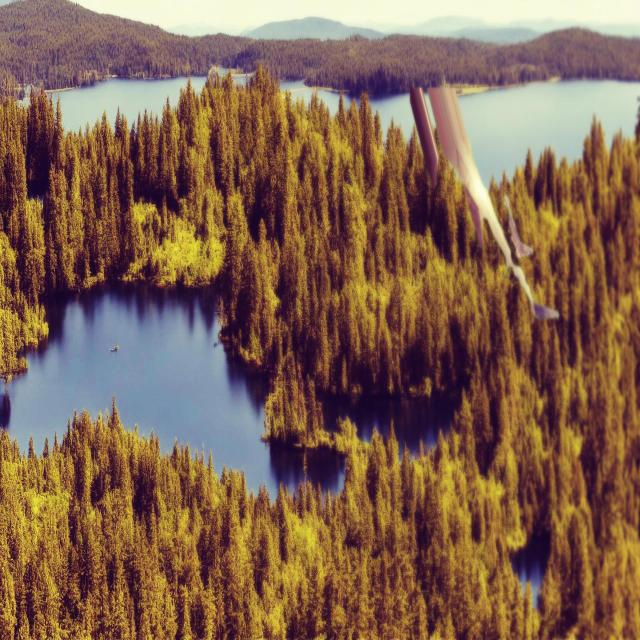airplane: (409, 81, 559, 320)
